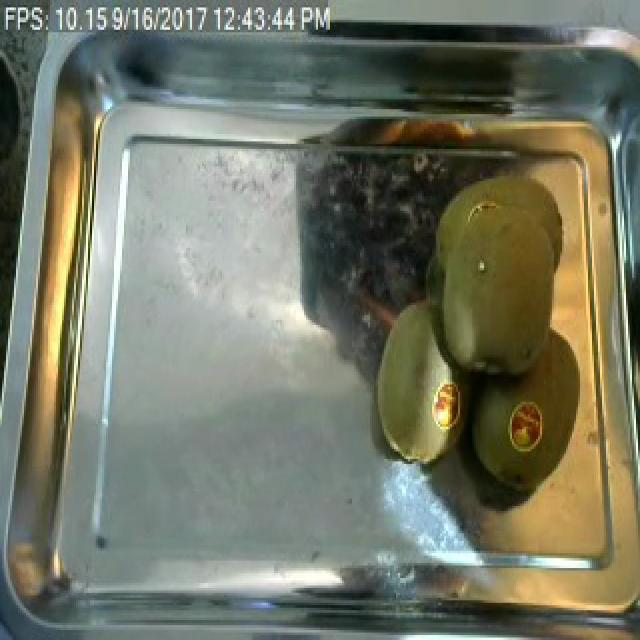Fruit: (412, 169, 580, 402), (364, 293, 474, 474), (500, 392, 554, 459)
